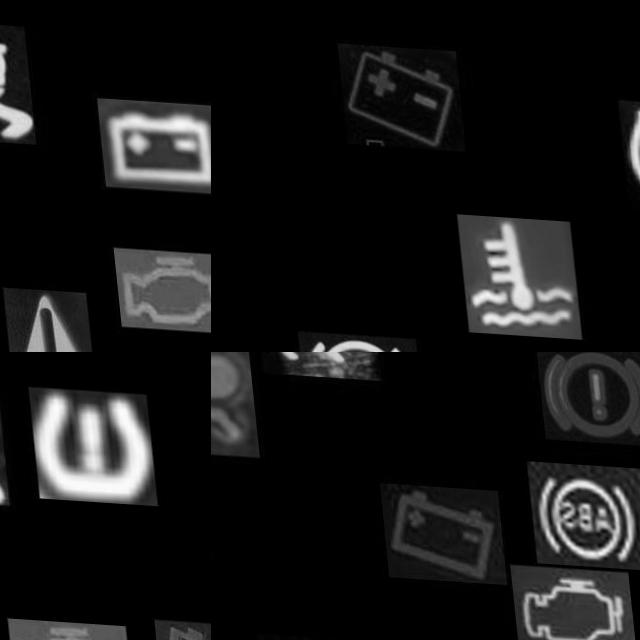Central Warning lamp: (0, 286, 88, 352)
Engine cooling system: (452, 210, 575, 334)
